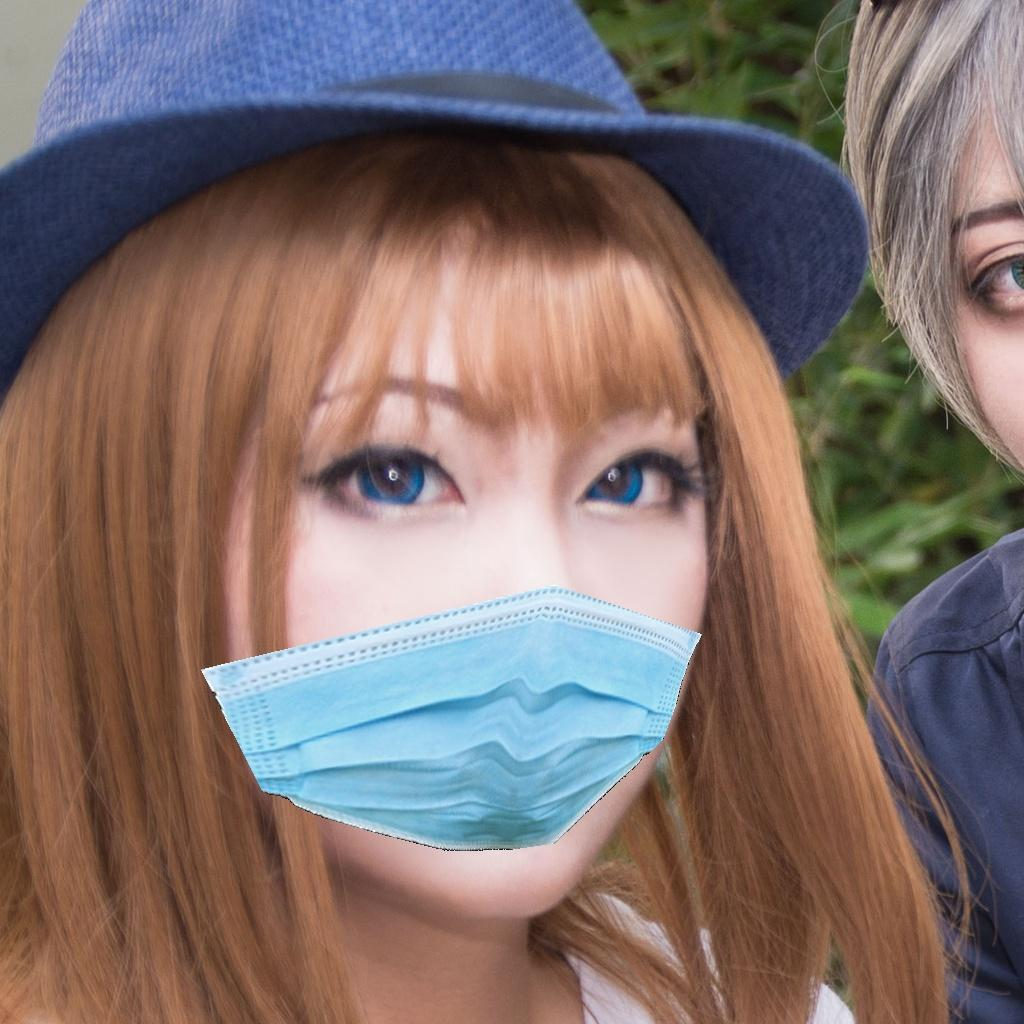Máscara Incorreta: (238, 360, 708, 903)
